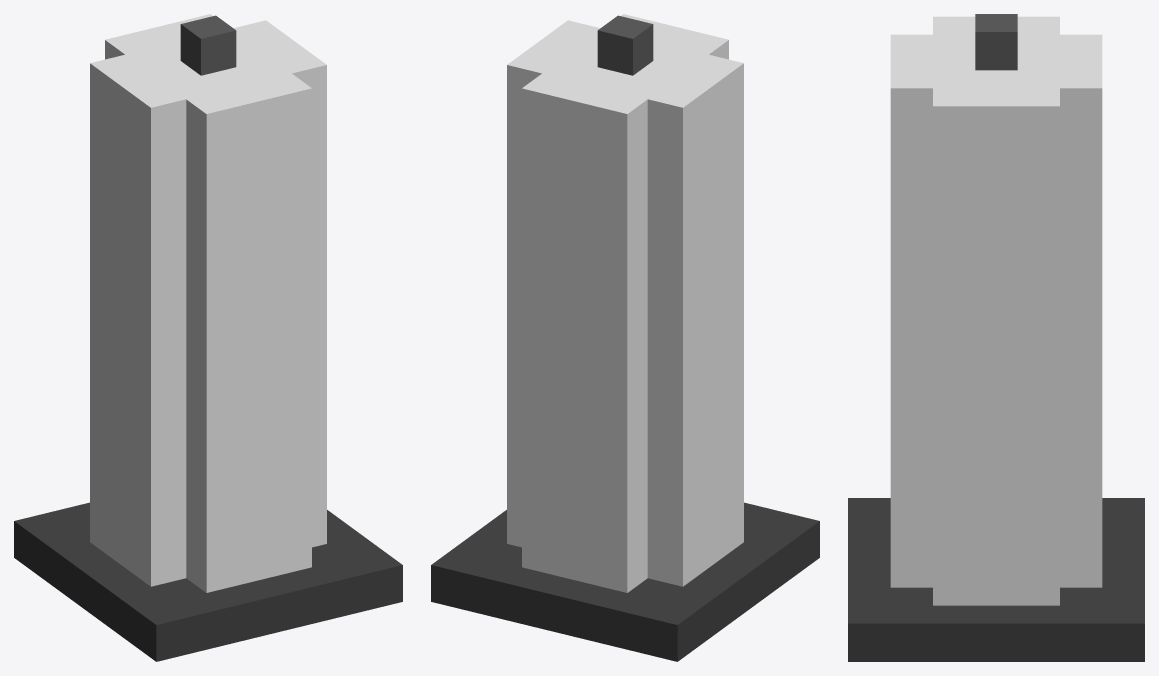
File: PaperTowel.obj
3 views of the same model, side by side, from view 1: azimuth 30°, elevation 25°; view 2: azimuth 150°, elevation 25°; view 3: azimuth 270°, elevation 25° (orthographic). The views are drawn at different scales.
Size of the model in its own units: 0.7 by 1.5 by 0.7.
1 material, 1 textured.
